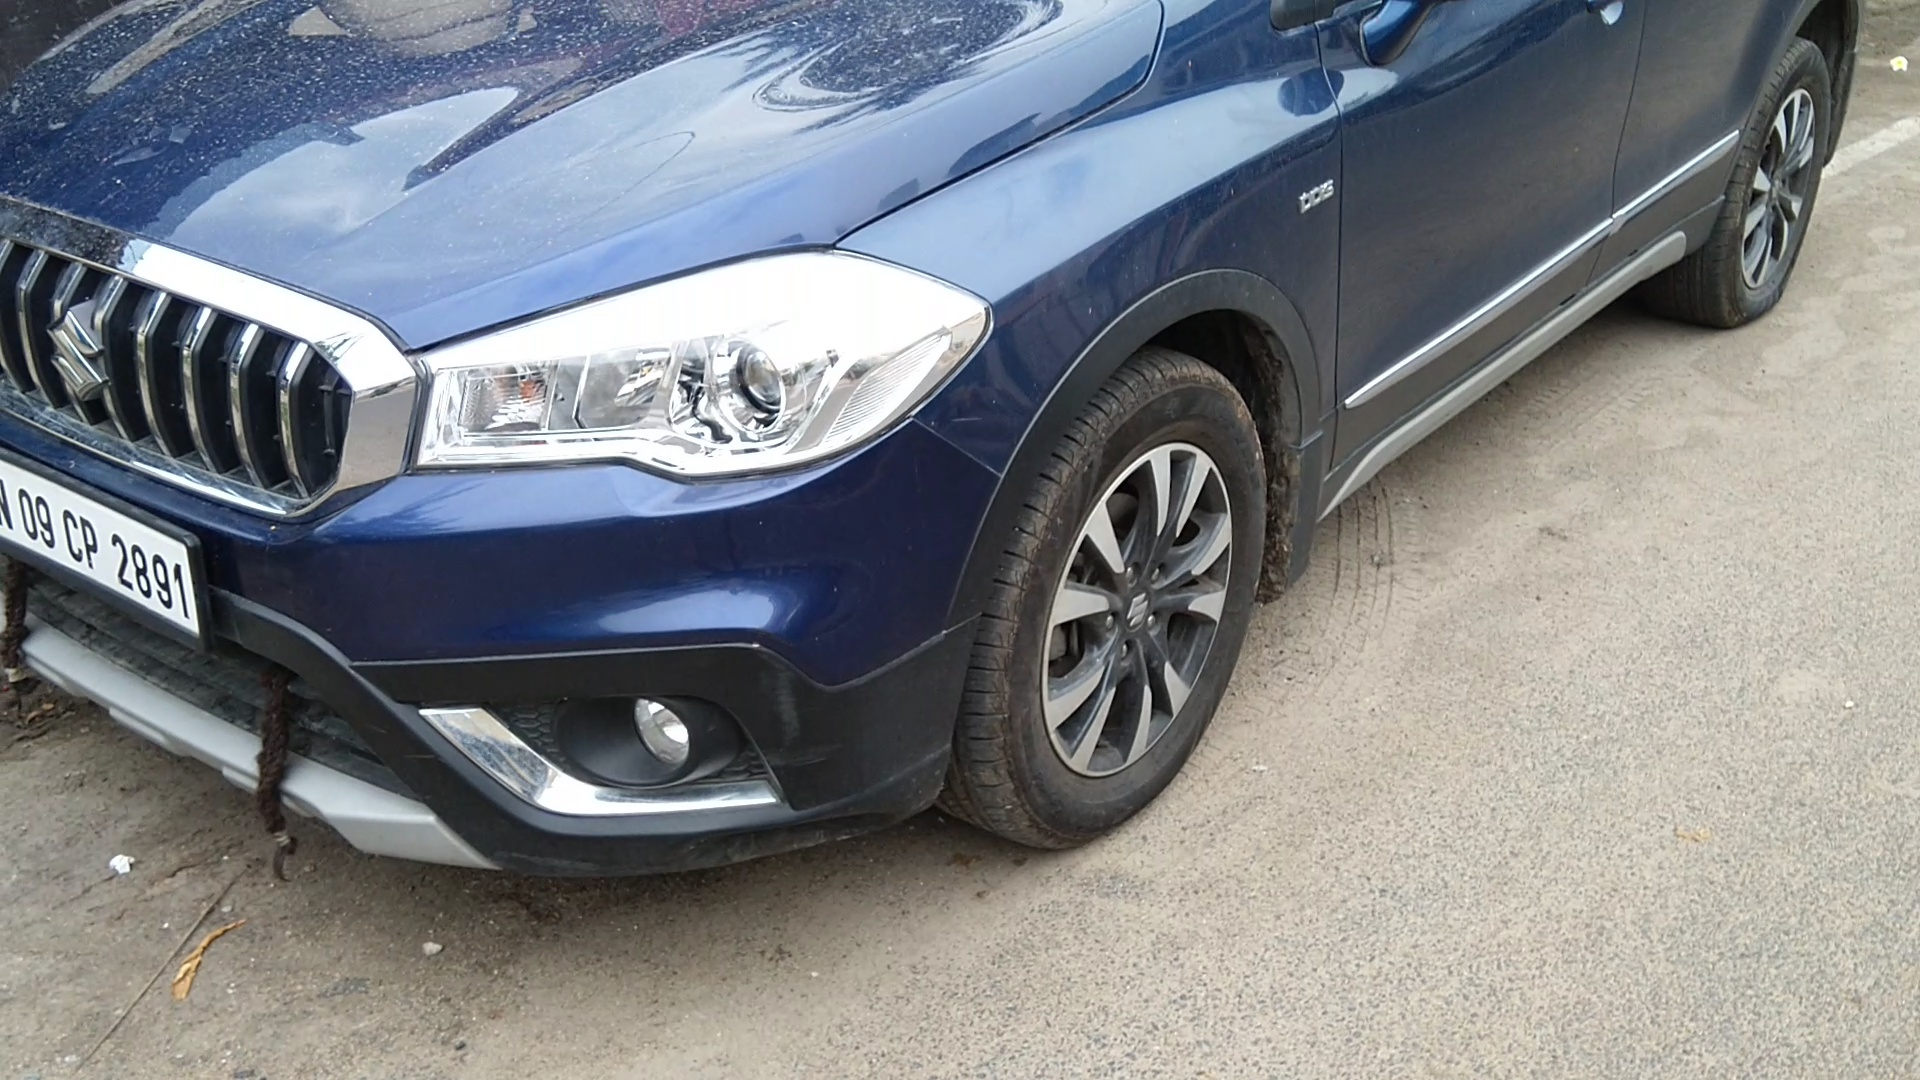alloy_wheel: (985, 349, 1270, 866), (1700, 18, 1847, 331)
front_grill: (5, 158, 388, 549)
headlamp: (394, 225, 992, 505)
